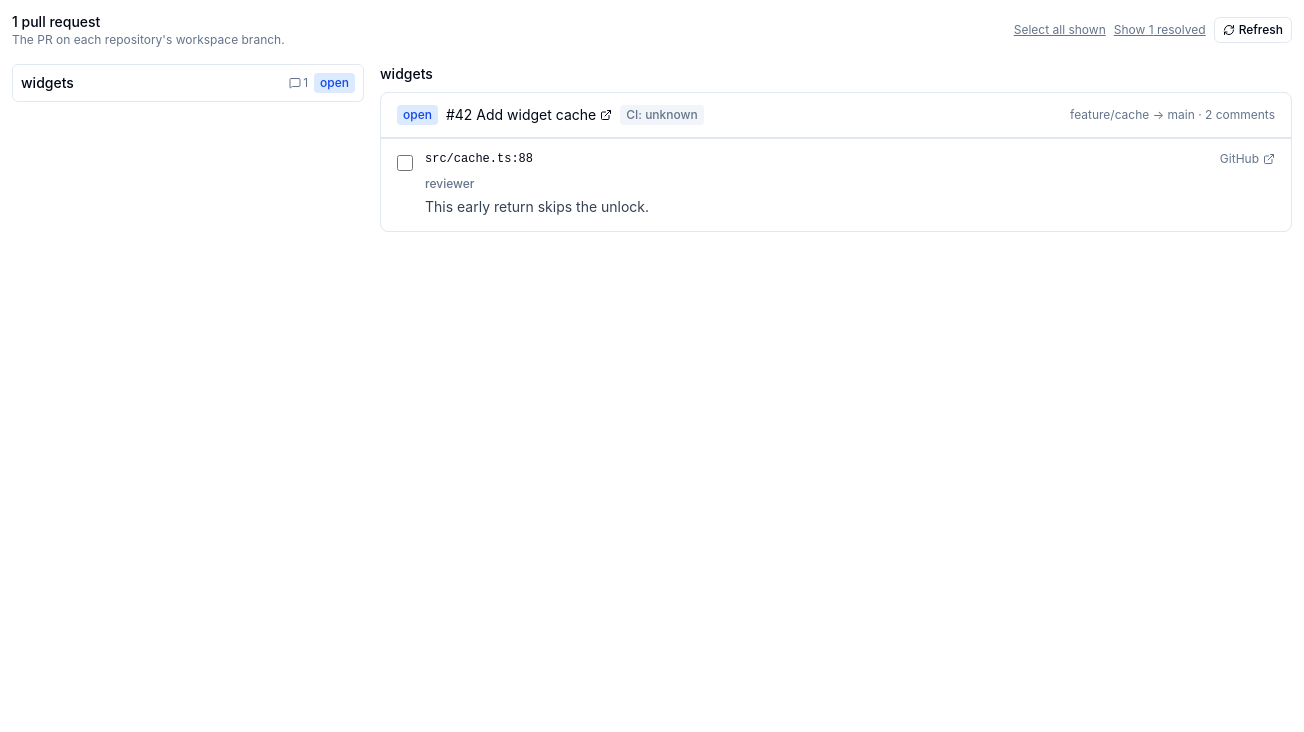
Test case: PullRequestsView › a note on the selection › keeps the note when the box is unticked and ticked again
Click the checkbox named "src/cache.ts:88": [405, 163] box [397,155,413,171]
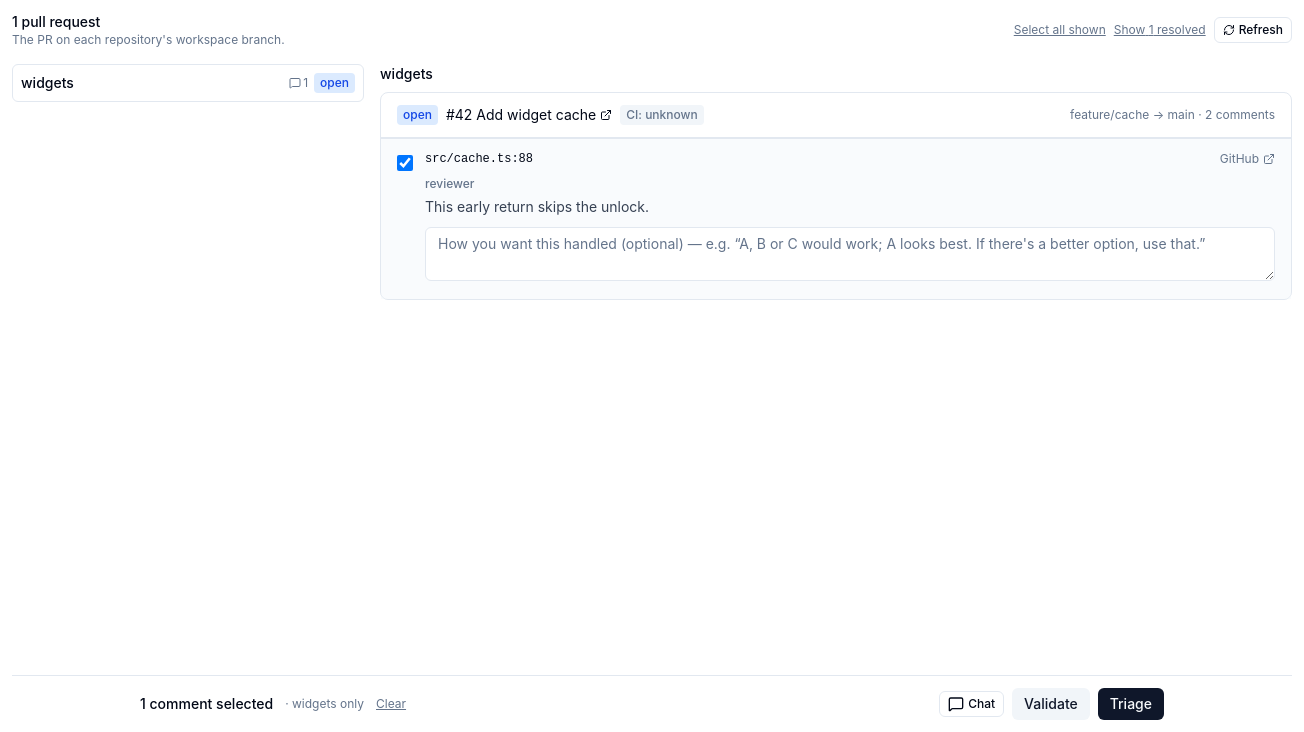
Replace the text in the text box named "Note on review thread on src/cache.ts:88" with "Options A, B or C. A looks best; if there's a better one, use that.": [850, 254] box [425,227,1275,281]
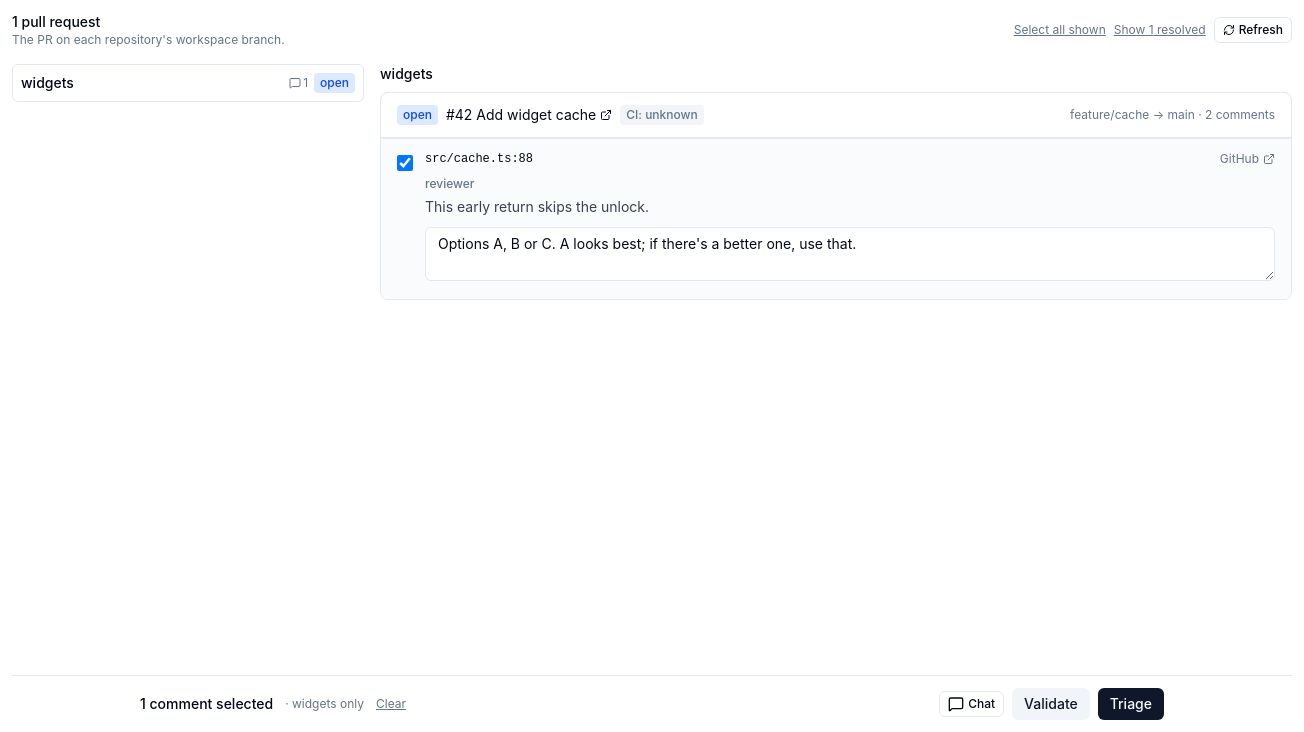
Click the checkbox named "src/cache.ts:88": [405, 163] box [397,155,413,171]
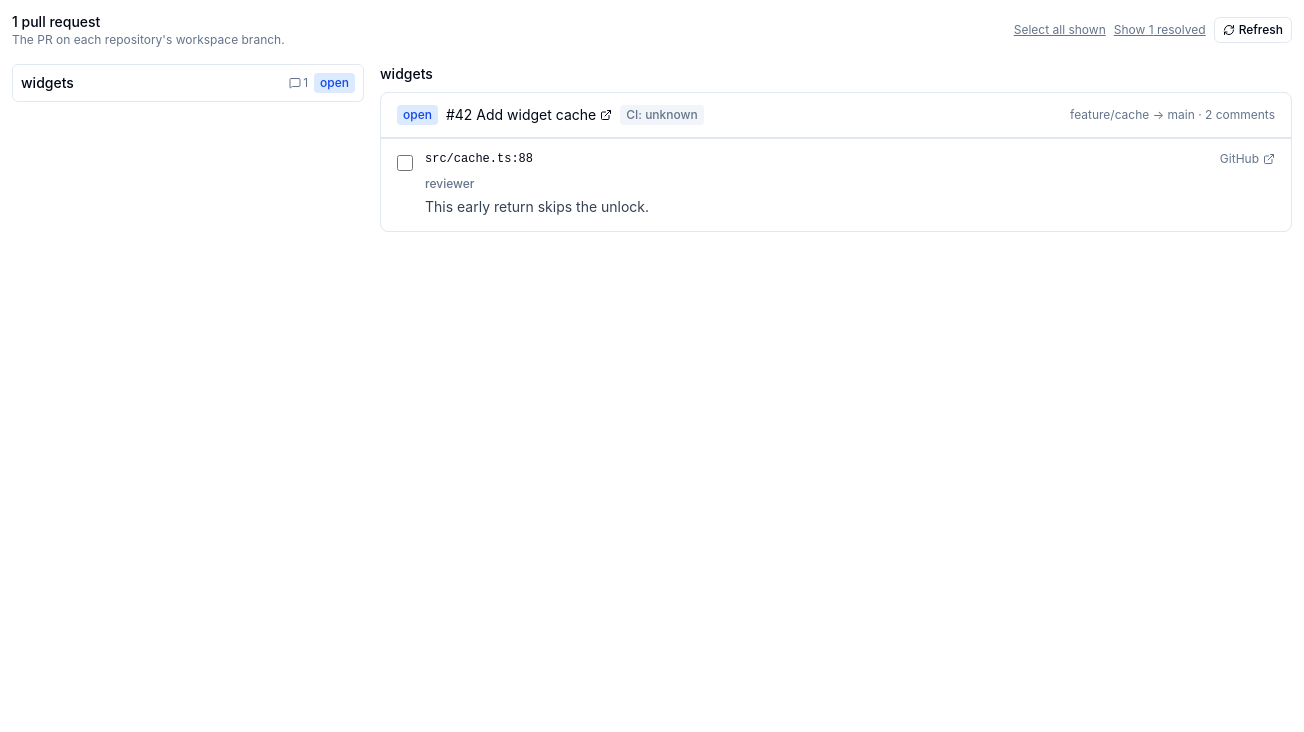
Click the checkbox named "src/cache.ts:88": [405, 163] box [397,155,413,171]
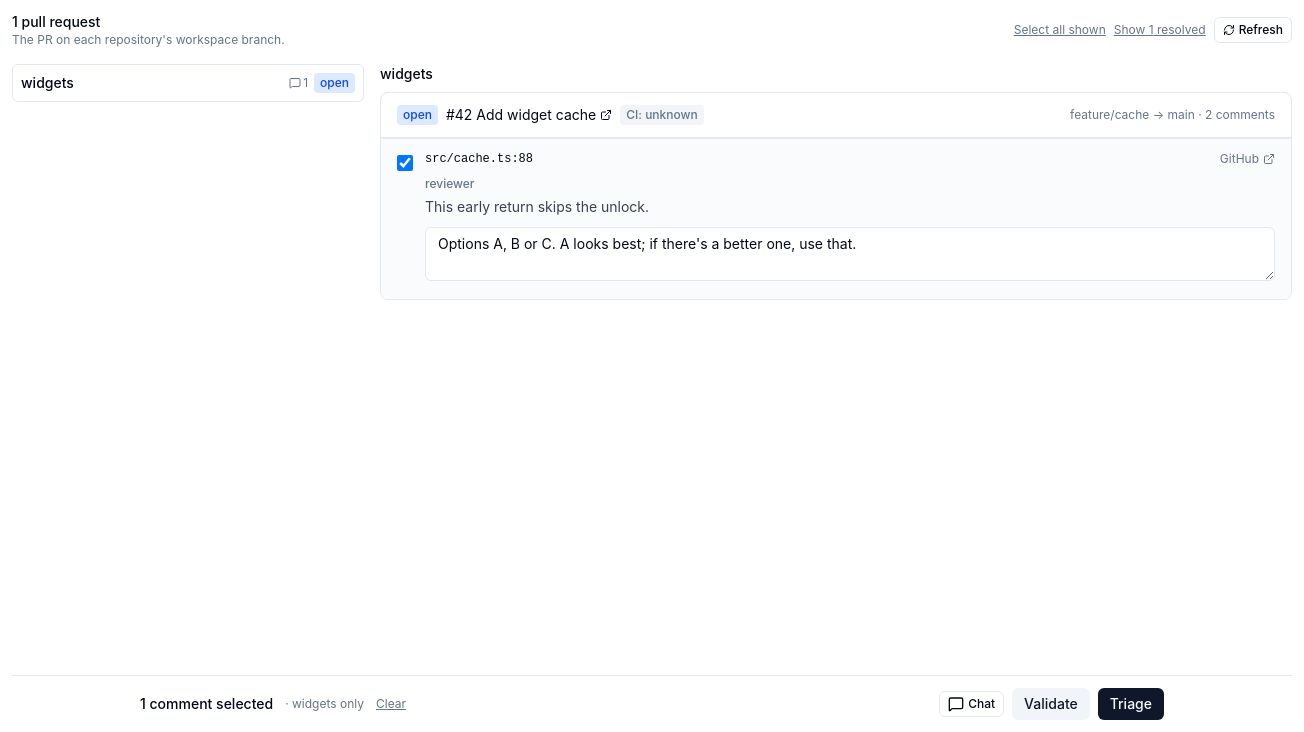
Result: the text box named "Note on review thread on src/cache.ts:88" holds "Options A, B or C. A looks best; if there's a better one, use that." at [425,227,1275,281]
